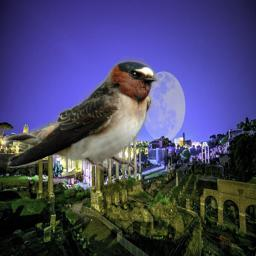Swallow: (3, 56, 163, 174)
